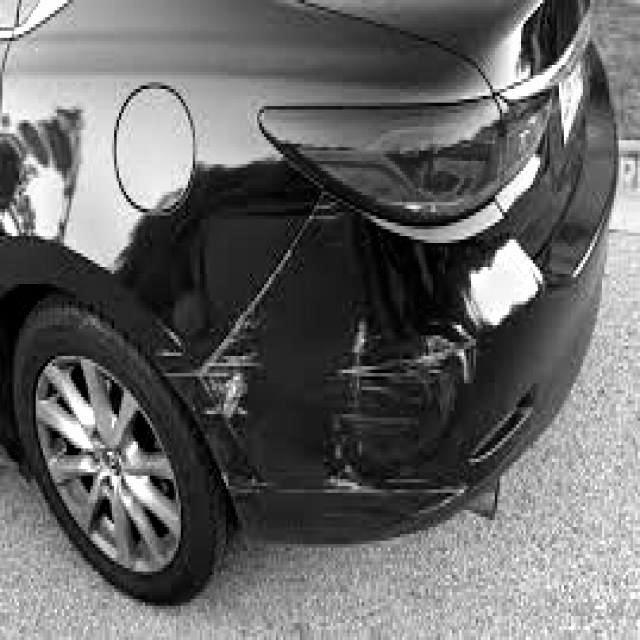rear-bumper-dent: (187, 341, 479, 500)
